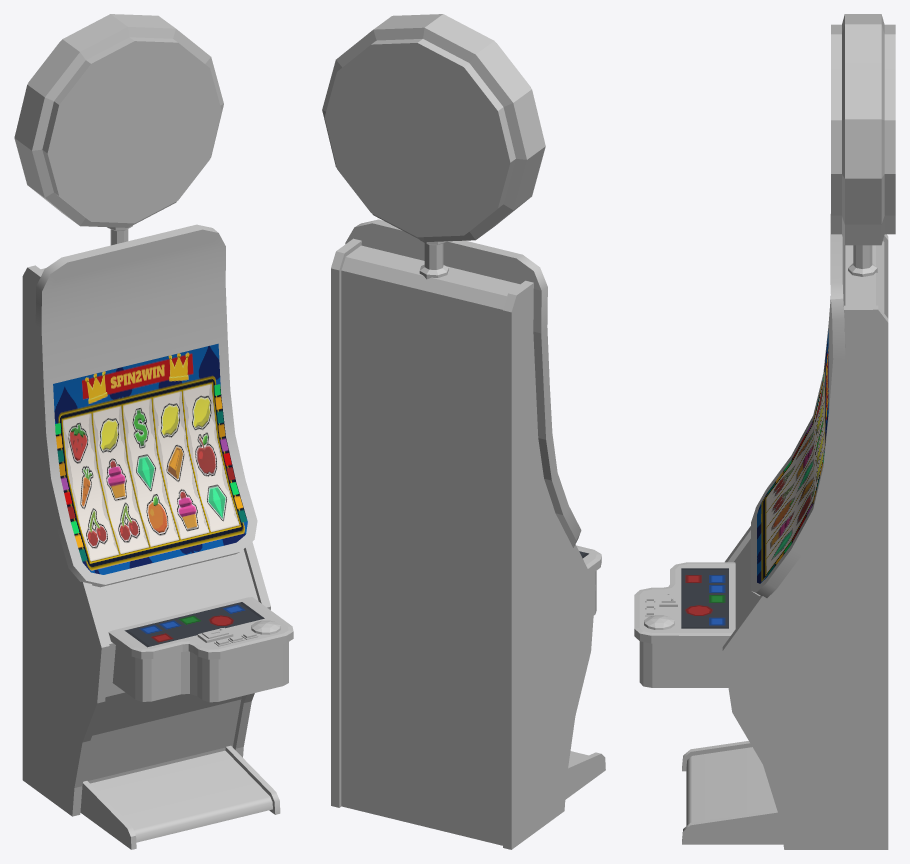
File: SM_Prop_Slot_Machine_02.fbx
3 renders of one model, left to right at view 1: azimuth 30°, elevation 25°; view 2: azimuth 150°, elevation 25°; view 3: azimuth 270°, elevation 25°, orthographic. The views are drawn at different scales.
Parts seen in each view (by area): view 1: SM_Prop_Slot_Machine_02; view 2: SM_Prop_Slot_Machine_02; view 3: SM_Prop_Slot_Machine_02.
Part boxes in pixels (x1,y1,x2,y2): SM_Prop_Slot_Machine_02: (14,14,293,849); SM_Prop_Slot_Machine_02: (322,14,605,849); SM_Prop_Slot_Machine_02: (634,14,895,849).
Size of the model in its own units: 102 by 379 by 115.
